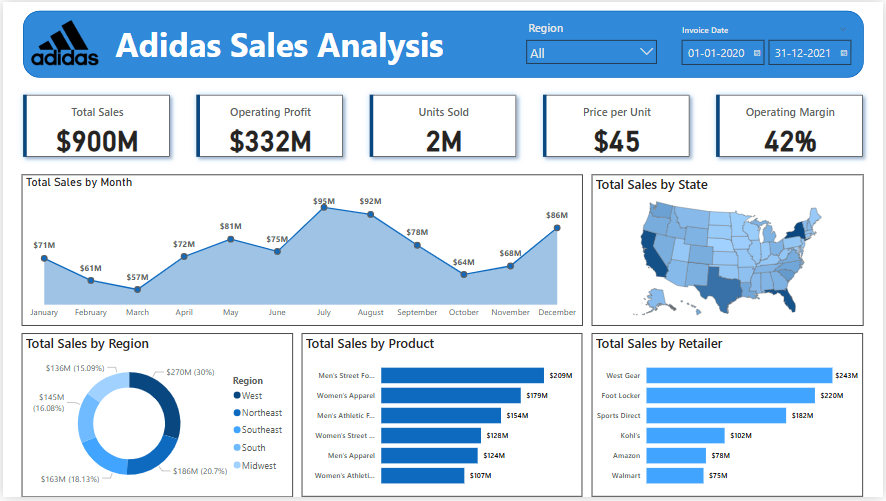

Layout of this report page (visuals, bound fields, positions):
{"tool":"powerbi","page":{"name":"Page 1","canvas":[1280,720],"ordinal":0},"visuals":[{"type":"shape","box":[28.2,12.8,1223.1,97.4],"z":0},{"type":"image","box":[37.2,12.8,107.7,93.6],"z":1000},{"type":"textbox","box":[158.1,24.4,496.5,75.6],"z":2000},{"type":"cardVisual","fields":{"Data":["Sum(Data Sales Adidas.Total Sales)","Sum(Data Sales Adidas.Operating Profit)","Sum(Data Sales Adidas.Units Sold)","Avg(Data Sales Adidas.Price per Unit)","Avg(Data Sales Adidas.Operating Margin)"]},"box":[12.8,118.6,1257,124.4],"z":3000},{"type":"areaChart","title":"Total Sales by Month","fields":{"Category":["Data Sales Adidas.Invoice Date.Variation.Date Hierarchy.Month"],"Y":["Sum(Data Sales Adidas.Total Sales)"]},"box":[27.9,250,816.3,219.8],"z":4000},{"type":"shapeMap","title":"Total Sales by State","fields":{"Category":["Data Sales Adidas.State"],"Value":["Sum(Data Sales Adidas.Total Sales)"]},"box":[857,250,395.3,219.8],"z":5000},{"type":"donutChart","fields":{"Category":["Data Sales Adidas.Region"],"Y":["Sum(Data Sales Adidas.Total Sales)"]},"box":[27.9,481.4,394.2,238.4],"z":6000},{"type":"barChart","title":"Total Sales by Product","fields":{"Category":["Data Sales Adidas.Product"],"Y":["Sum(Data Sales Adidas.Total Sales)"]},"box":[434.9,481.4,408.1,237.2],"z":7000},{"type":"barChart","title":"Total Sales by Retailer","fields":{"Y":["Sum(Data Sales Adidas.Total Sales)"],"Category":["Data Sales Adidas.Retailer"]},"box":[857,482.6,394.2,237.2],"z":8000},{"type":"slicer","fields":{"Values":["Data Sales Adidas.Region"]},"box":[751.3,21.8,210.3,78.2],"z":9000},{"type":"slicer","fields":{"Values":["Data Sales Adidas.Invoice Date"]},"box":[974.4,26.9,265.4,66.7],"z":11000}]}

Visuals, with their boxes in screenshot pixels (x1, y1, x2, y2), scaled from the page's 1280x720 canvas onto the 886x501 screenshot:
shape: x1=20, y1=9, x2=866, y2=77
image: x1=26, y1=9, x2=100, y2=74
textbox: x1=109, y1=17, x2=453, y2=70
cardVisual - Sum(Data Sales Adidas.Total Sales) x Sum(Data Sales Adidas.Operating Profit): x1=9, y1=83, x2=879, y2=169
"Total Sales by Month" areaChart: x1=19, y1=174, x2=584, y2=327
"Total Sales by State" shapeMap: x1=593, y1=174, x2=867, y2=327
donutChart - Data Sales Adidas.Region x Sum(Data Sales Adidas.Total Sales): x1=19, y1=335, x2=292, y2=500
"Total Sales by Product" barChart: x1=301, y1=335, x2=584, y2=500
"Total Sales by Retailer" barChart: x1=593, y1=336, x2=866, y2=500
slicer - Data Sales Adidas.Region: x1=520, y1=15, x2=666, y2=70
slicer - Data Sales Adidas.Invoice Date: x1=674, y1=19, x2=858, y2=65
